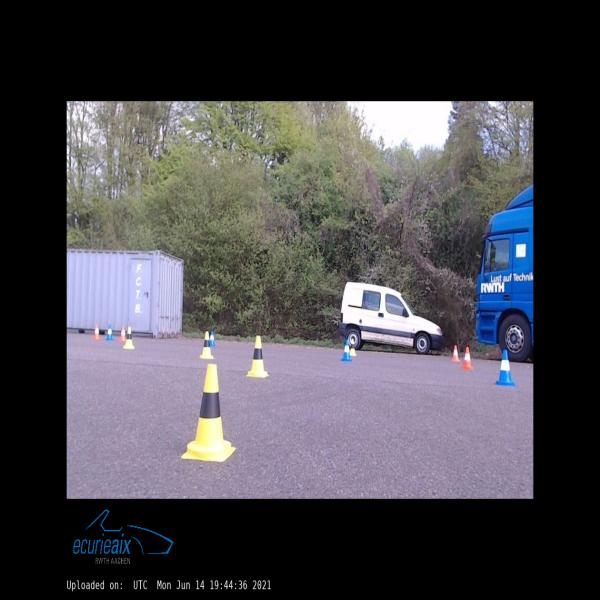blue_cone: (496, 350, 515, 386), (341, 340, 352, 360), (106, 325, 113, 340), (210, 331, 215, 346)
orange_cone: (462, 347, 473, 369), (451, 346, 460, 361), (120, 326, 126, 341), (94, 325, 99, 338)
yellow_cone: (181, 364, 236, 462), (247, 336, 269, 377), (199, 331, 214, 359), (123, 327, 134, 348), (350, 339, 356, 356)
